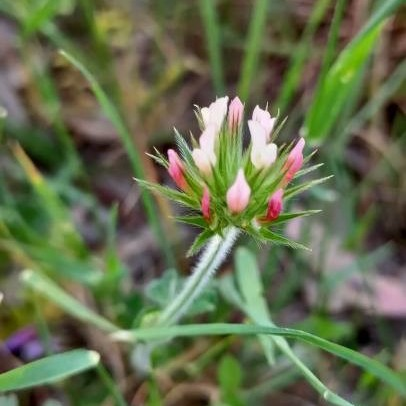obstacle: (143, 87, 337, 359)
